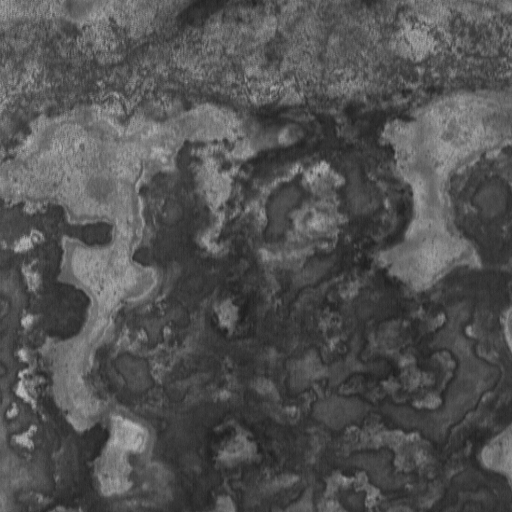aokeng: (375, 84, 512, 300), (1, 97, 187, 231)
